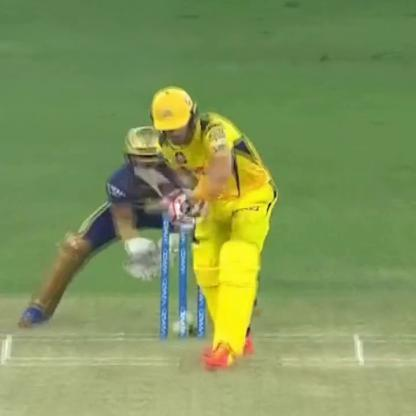ball: (168, 323, 194, 335), (173, 308, 196, 320)
bat: (115, 152, 194, 229)
pitch: (1, 330, 416, 412)
